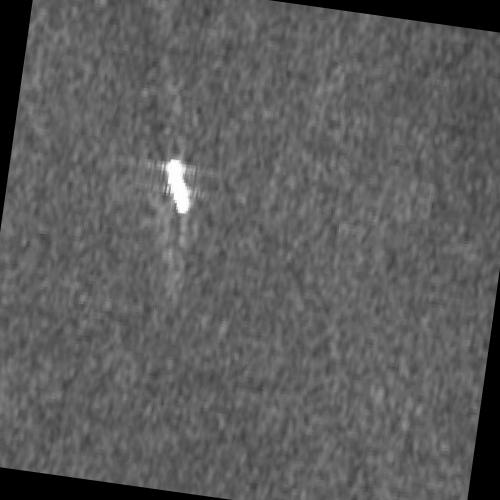ship: (165, 157, 191, 216)
